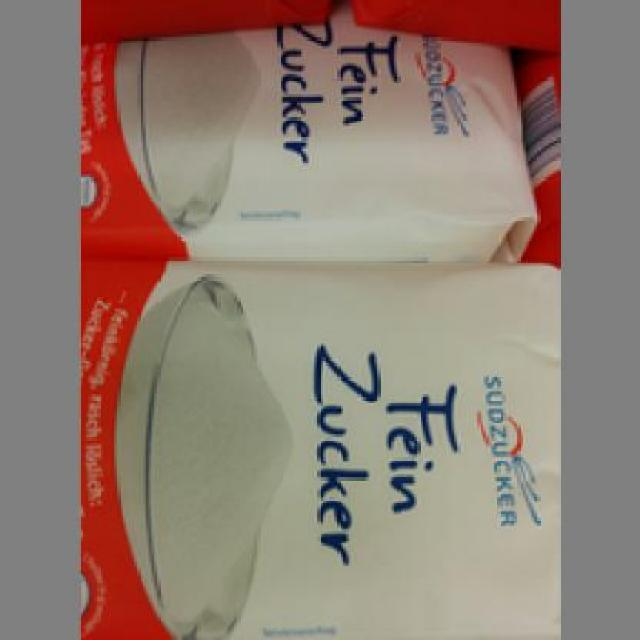Sugar: (77, 252, 557, 638), (76, 25, 532, 261)
